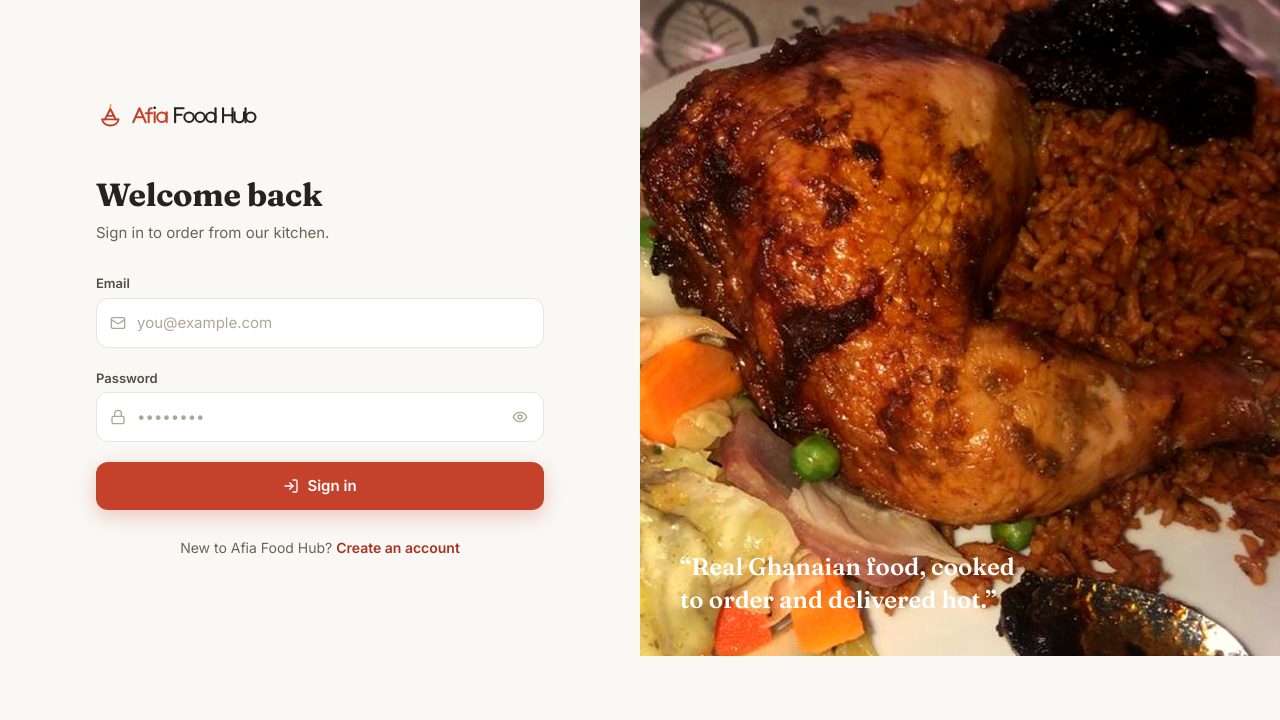
LoginPage › shows the error on the field the API named
In the field labelled "Email": (320, 322) [96,298,544,348], type "customer@example.test"
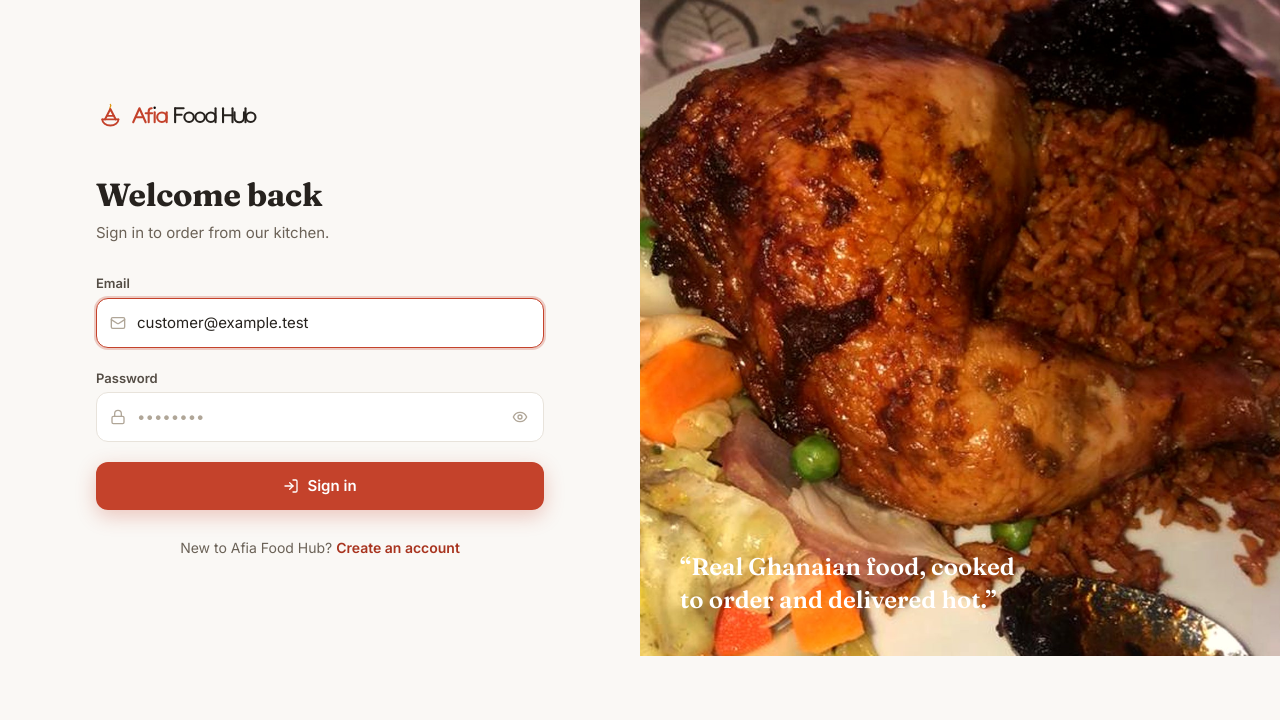
In the password field labelled "Password": (320, 417) [96,392,544,442], type "Password123"
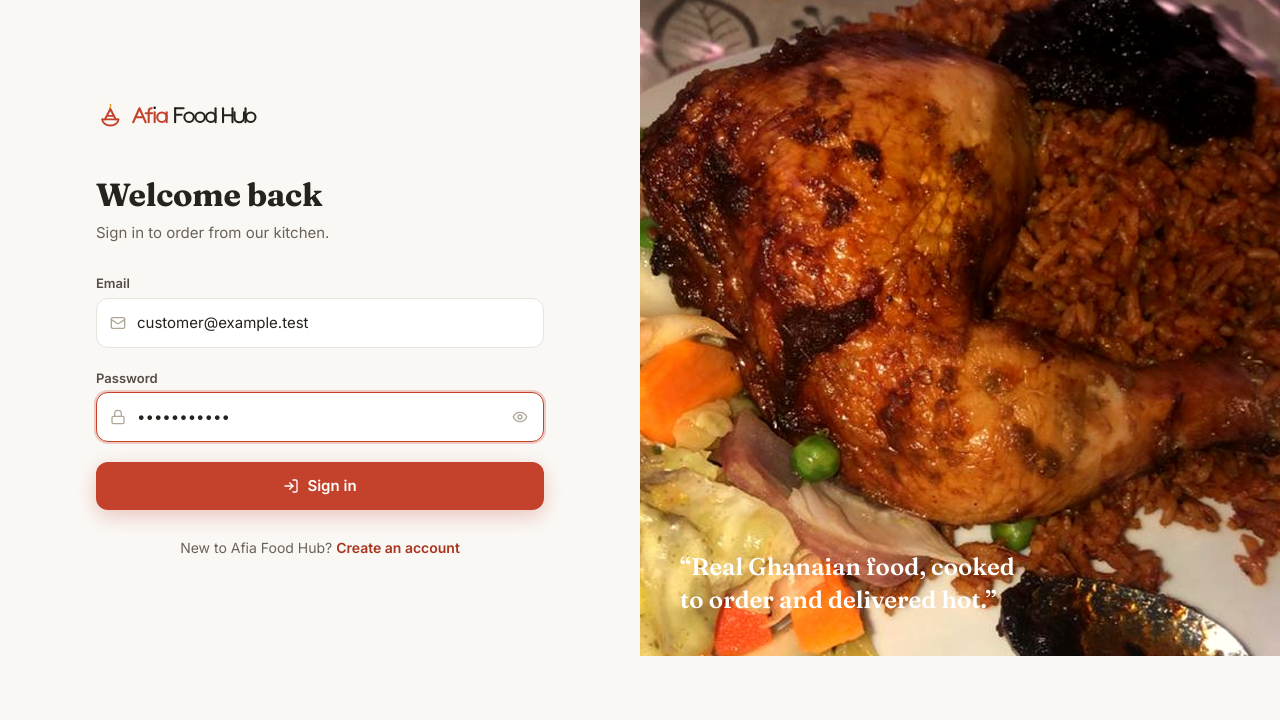
Click the button "Sign in": (320, 486) [96,462,544,510]
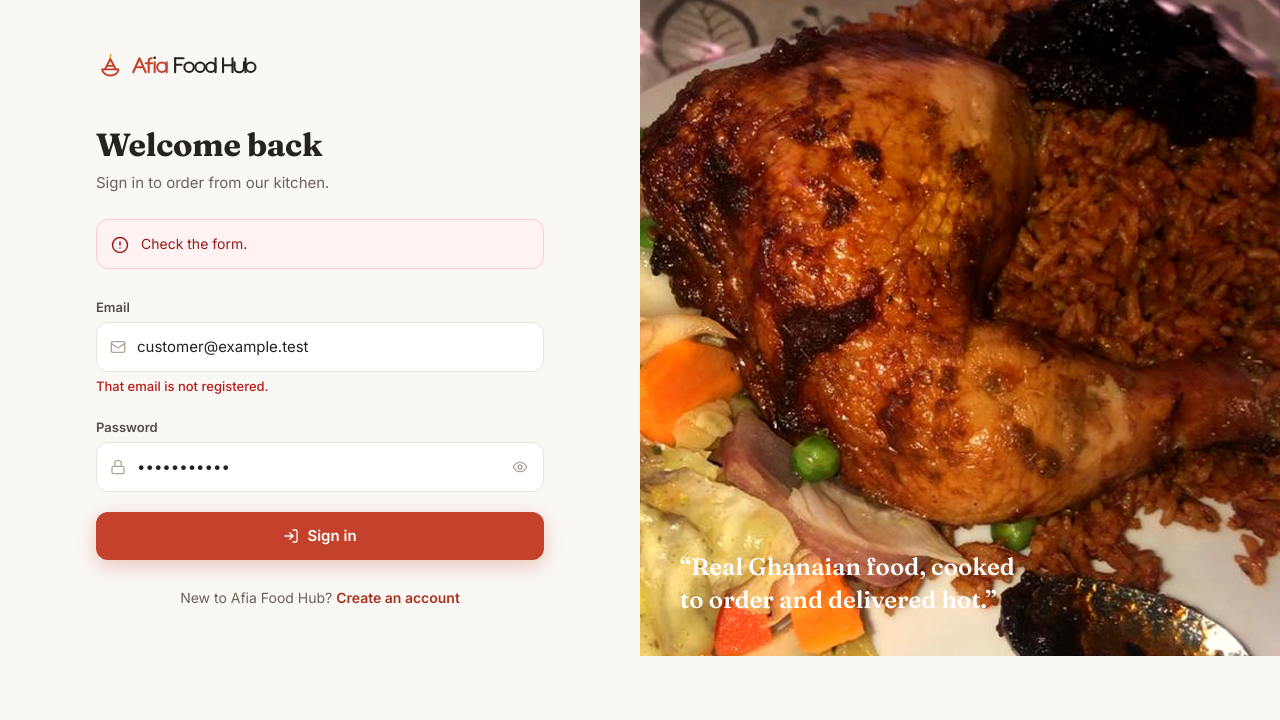
Now the text "That email is not registered." is shown, box [96,378,268,394]
